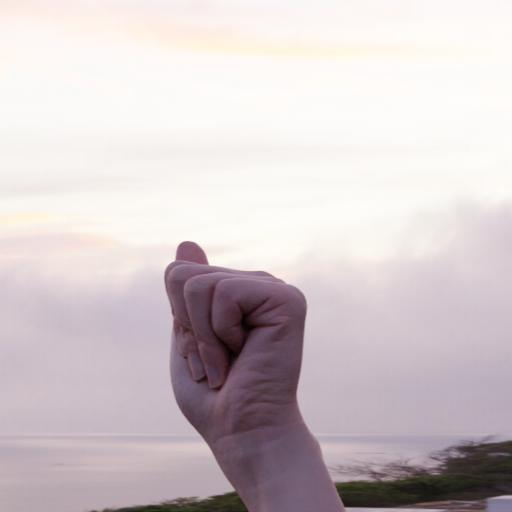A: (157, 228, 322, 452)
